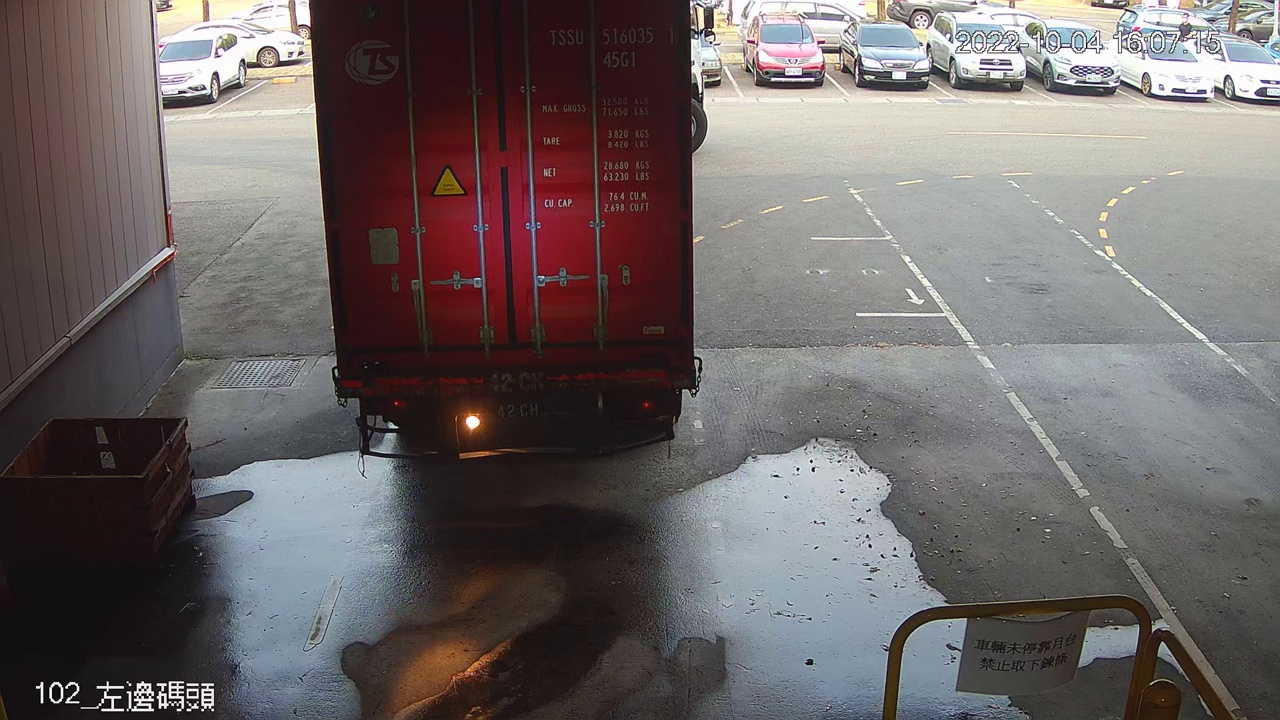container: (543, 23, 682, 72)
